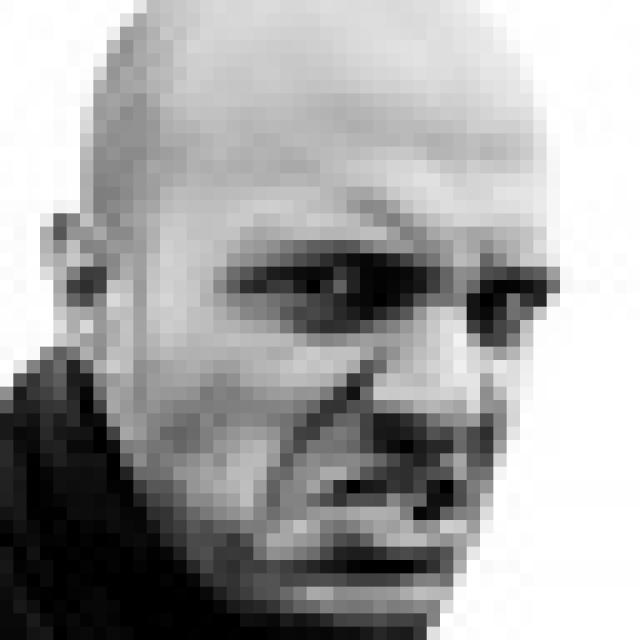angry: (200, 193, 563, 574)
